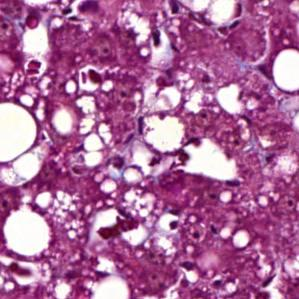steatosis: (7, 208, 54, 251)
